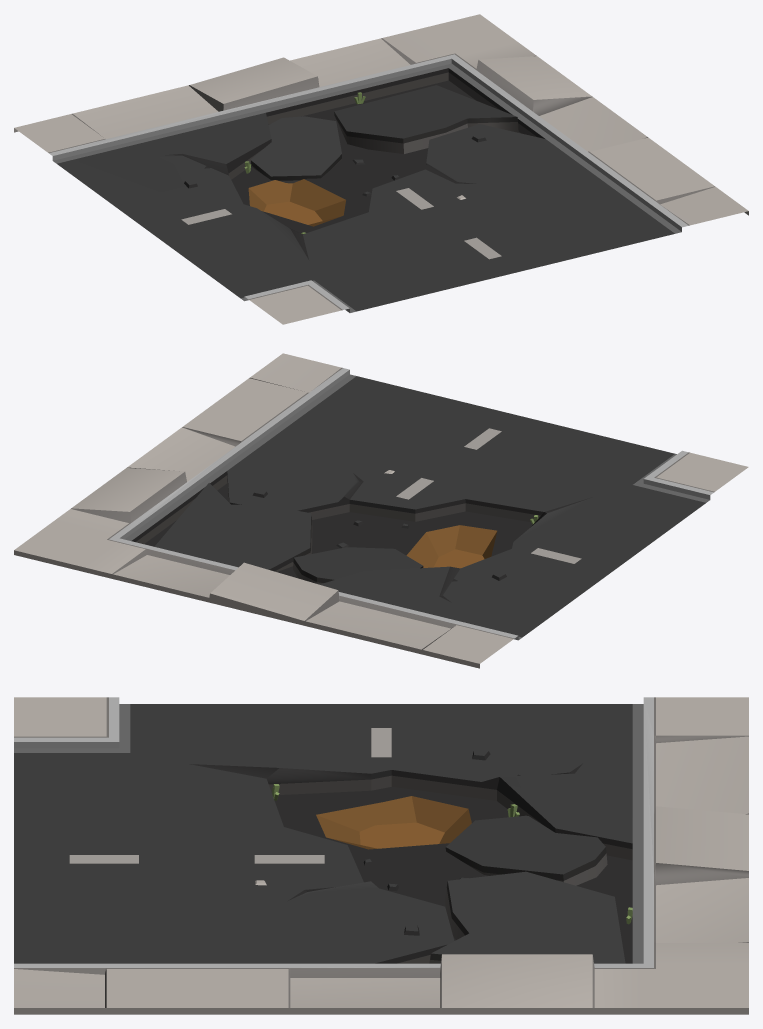
File: SA_Env_Road_CornerLines_Damaged_01.gltf
3 renders of one model, top to bottom at view 1: azimuth 30°, elevation 25°; view 2: azimuth 150°, elevation 25°; view 3: azimuth 270°, elevation 25°, orthographic. The views are drawn at different scales.
Visible parts, largest first — view 1: SA_Env_Road_CornerLines_Damaged_01; view 2: SA_Env_Road_CornerLines_Damaged_01; view 3: SA_Env_Road_CornerLines_Damaged_01.
Part boxes in pixels (x1=…): SA_Env_Road_CornerLines_Damaged_01: x1=14, y1=14, x2=748, y2=324; SA_Env_Road_CornerLines_Damaged_01: x1=14, y1=353, x2=748, y2=668; SA_Env_Road_CornerLines_Damaged_01: x1=14, y1=697, x2=748, y2=1014.
Size of the model in its own units: 20 by 1.73 by 20.
Materials: 1 (1 with a texture image).
